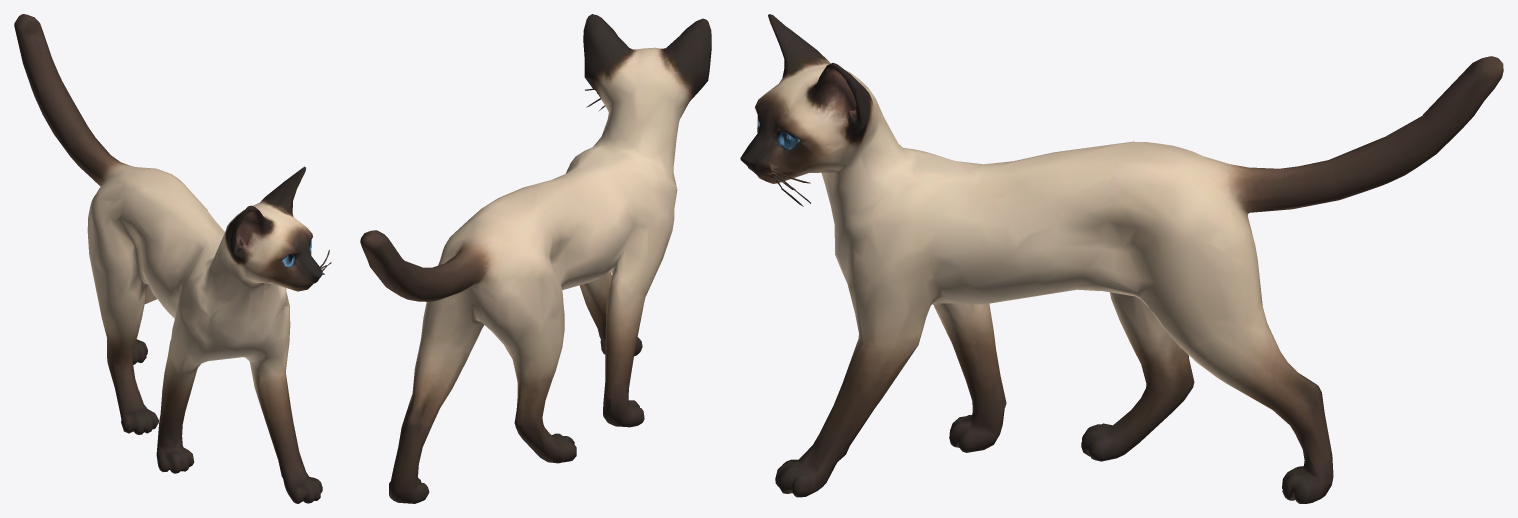
File: cat-walk.glb
3 renders of one model, left to right at view 1: azimuth 30°, elevation 25°; view 2: azimuth 150°, elevation 25°; view 3: azimuth 270°, elevation 25°, orthographic. The views are drawn at different scales.
Parts seen in each view (by area): view 1: tripo_node_439c39da-6041-4720-b244-e12d4bddb5d4; view 2: tripo_node_439c39da-6041-4720-b244-e12d4bddb5d4; view 3: tripo_node_439c39da-6041-4720-b244-e12d4bddb5d4.
Part boxes in pixels (left/top/right/bottom): tripo_node_439c39da-6041-4720-b244-e12d4bddb5d4: left=14, top=14, right=331, bottom=503; tripo_node_439c39da-6041-4720-b244-e12d4bddb5d4: left=360, top=14, right=711, bottom=503; tripo_node_439c39da-6041-4720-b244-e12d4bddb5d4: left=740, top=14, right=1503, bottom=503.
Bounding box in the file's own units: 0.2313 × 0.6285 × 0.9986.
1 material, 1 textured.
